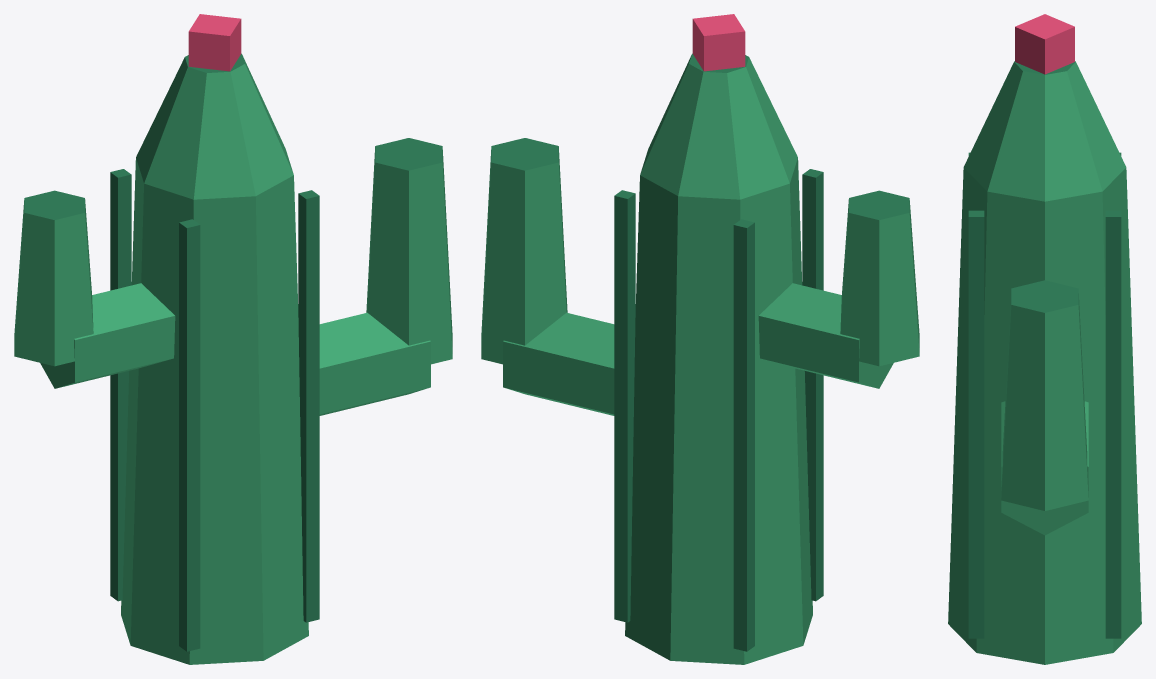
The model's file is CA_Cactus_Saguaro.obj.
3 views of the same model, side by side, from view 1: azimuth 30°, elevation 25°; view 2: azimuth 150°, elevation 25°; view 3: azimuth 270°, elevation 25° (orthographic).
Visible parts, largest first — view 1: CA_Cactus_Saguaro; view 2: CA_Cactus_Saguaro; view 3: CA_Cactus_Saguaro.
Part boxes in pixels (x1,y1,x2,y2): CA_Cactus_Saguaro: (14, 14, 452, 664); CA_Cactus_Saguaro: (481, 14, 919, 664); CA_Cactus_Saguaro: (948, 14, 1141, 664).
Size of the model in its own units: 2.6 by 3.4 by 1.
